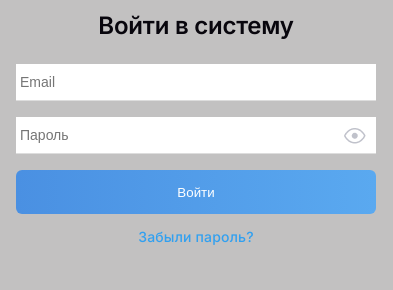
LoginForm › login error
The width and height of the screenshot is (393, 290).
In the field with placeholder "Email": (196, 83) [16,64,376,101], type "wrong@mail.com"
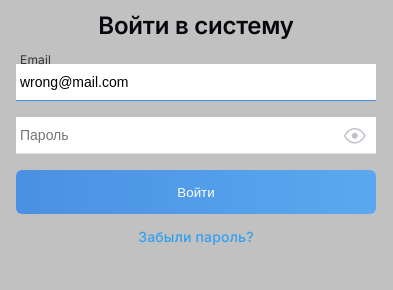
In the password field with placeholder "Пароль": (196, 136) [16,117,376,154], type "wrongpass"
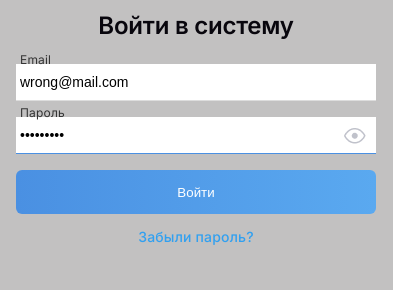
Click the button "Войти": (196, 192) [16,170,376,214]
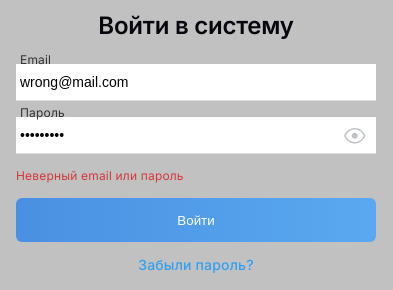
expect the text "Неверный email или пароль" is shown: met, box [16,168,184,183]
